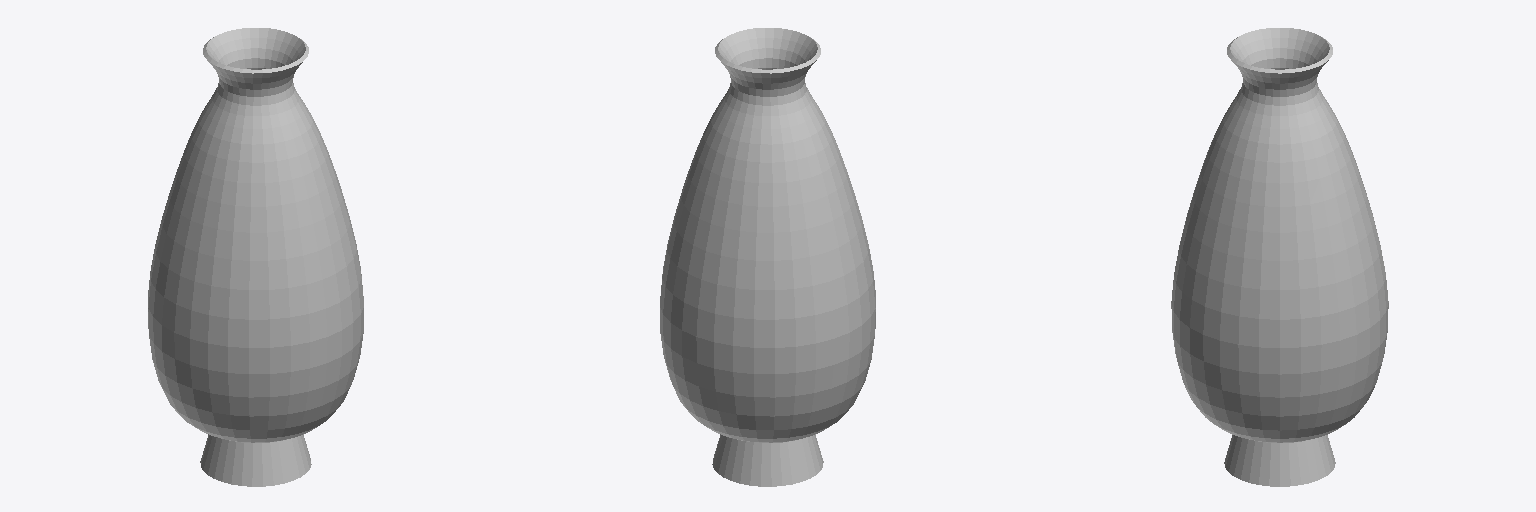
File: vase.obj
3 renders of one model, left to right at view 1: azimuth 30°, elevation 25°; view 2: azimuth 150°, elevation 25°; view 3: azimuth 270°, elevation 25°, orthographic.
Visible parts, largest first — view 1: Vase; view 2: Vase; view 3: Vase.
Boxes of the visible parts, x1,y1,x2,y2 form: Vase: [148, 28, 363, 486]; Vase: [660, 28, 875, 486]; Vase: [1171, 28, 1388, 486].
Size of the model in its own units: 1.23 by 2.6 by 1.23.